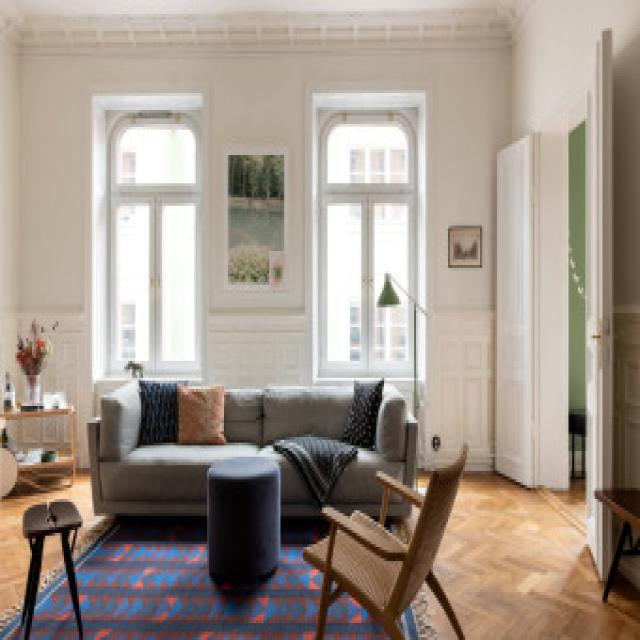Chair: (302, 453, 488, 640)
Sofa: (86, 371, 410, 519)
window: (96, 109, 204, 368), (320, 99, 417, 370)
